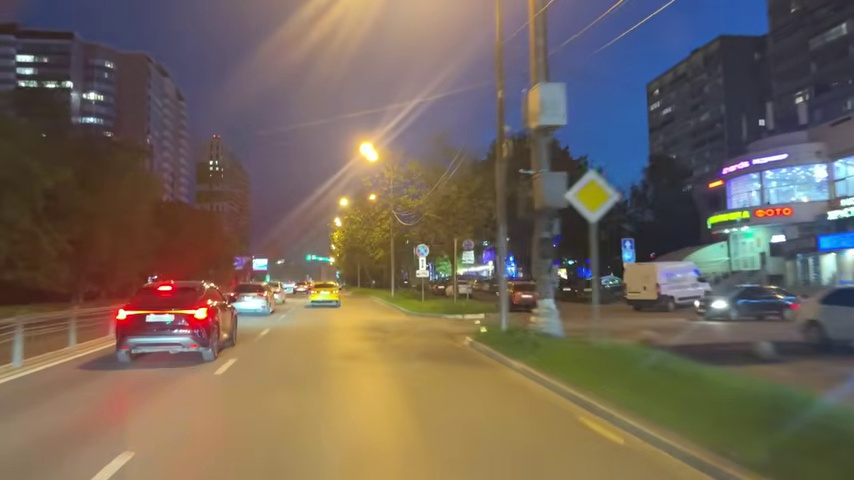acesa: (574, 181, 608, 212), (353, 137, 385, 167), (337, 195, 353, 210)
